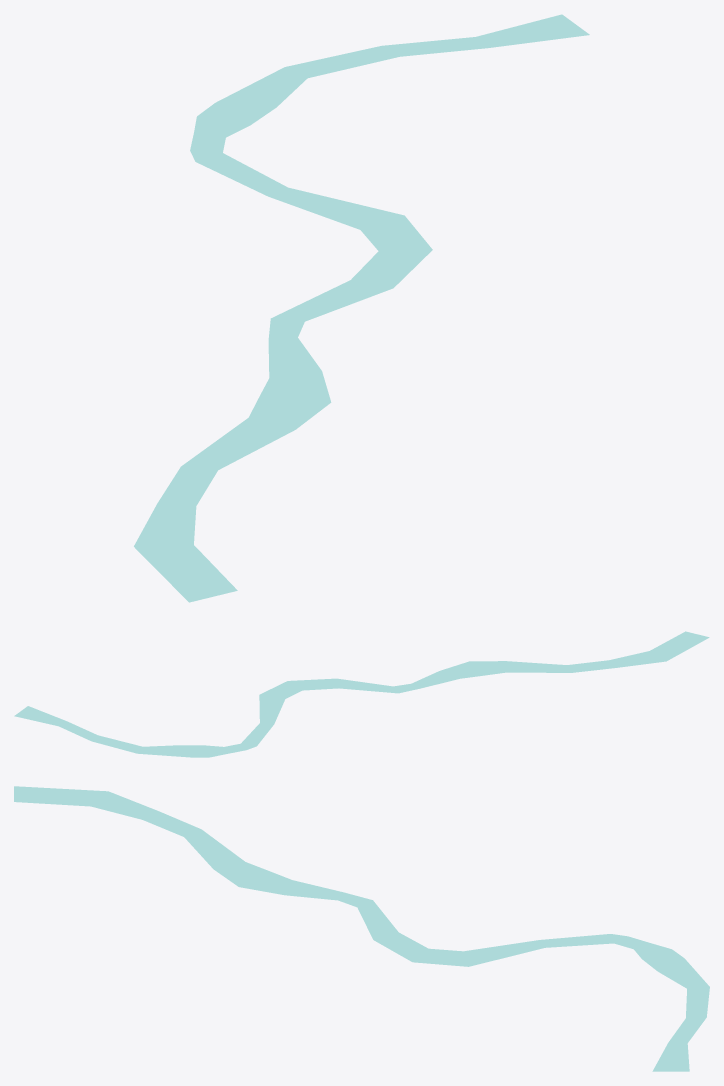
Rendered from wavewallconcave.fbx.
3 views of the same model, one above another, from view 1: azimuth 30°, elevation 25°; view 2: azimuth 150°, elevation 25°; view 3: azimuth 270°, elevation 25° (orthographic). The views are drawn at different scales.
Parts seen in each view (by area): view 1: obj0.105; view 2: obj0.105; view 3: obj0.105.
Boxes of the visible parts, x1,y1,x2,y2 form: obj0.105: (134, 14, 589, 602); obj0.105: (14, 631, 709, 757); obj0.105: (14, 786, 709, 1071).
Bounding box in the file's own units: 17.05 × 0.000532 × 17.56.
